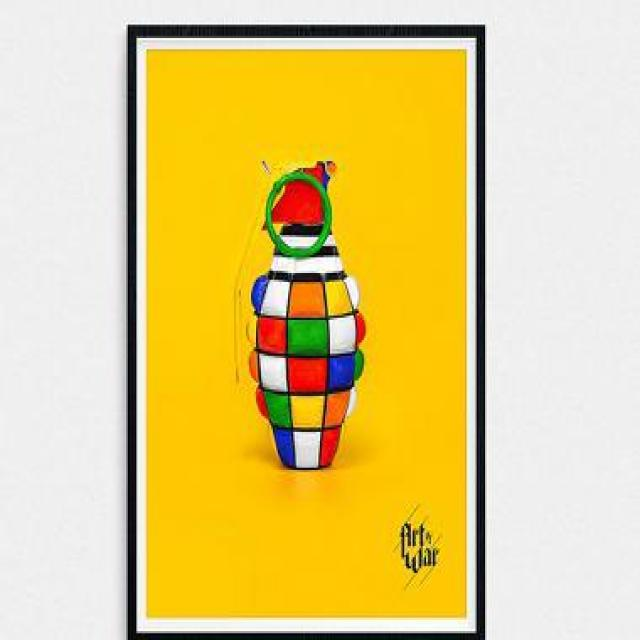grenade: (234, 156, 366, 471)
